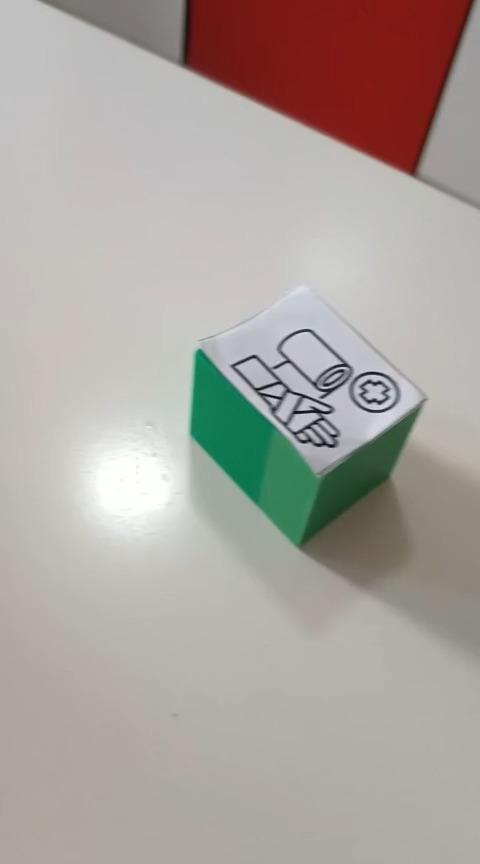Bandages: (188, 282, 428, 548)
